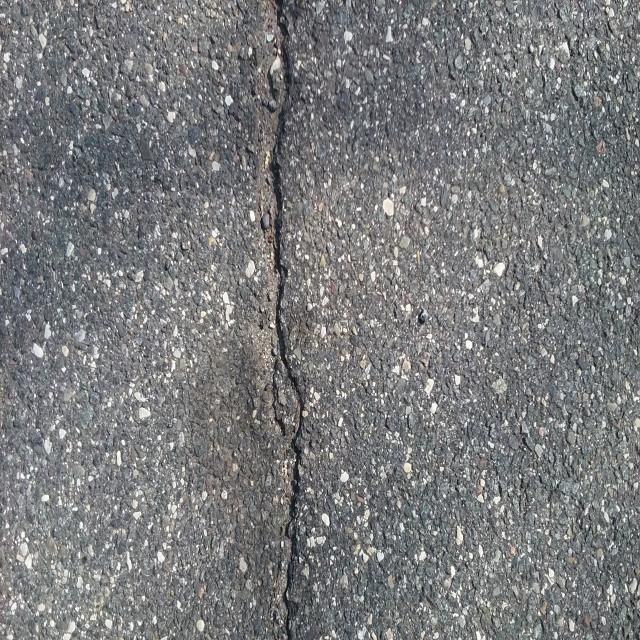Longitudial: (255, 2, 325, 640)
